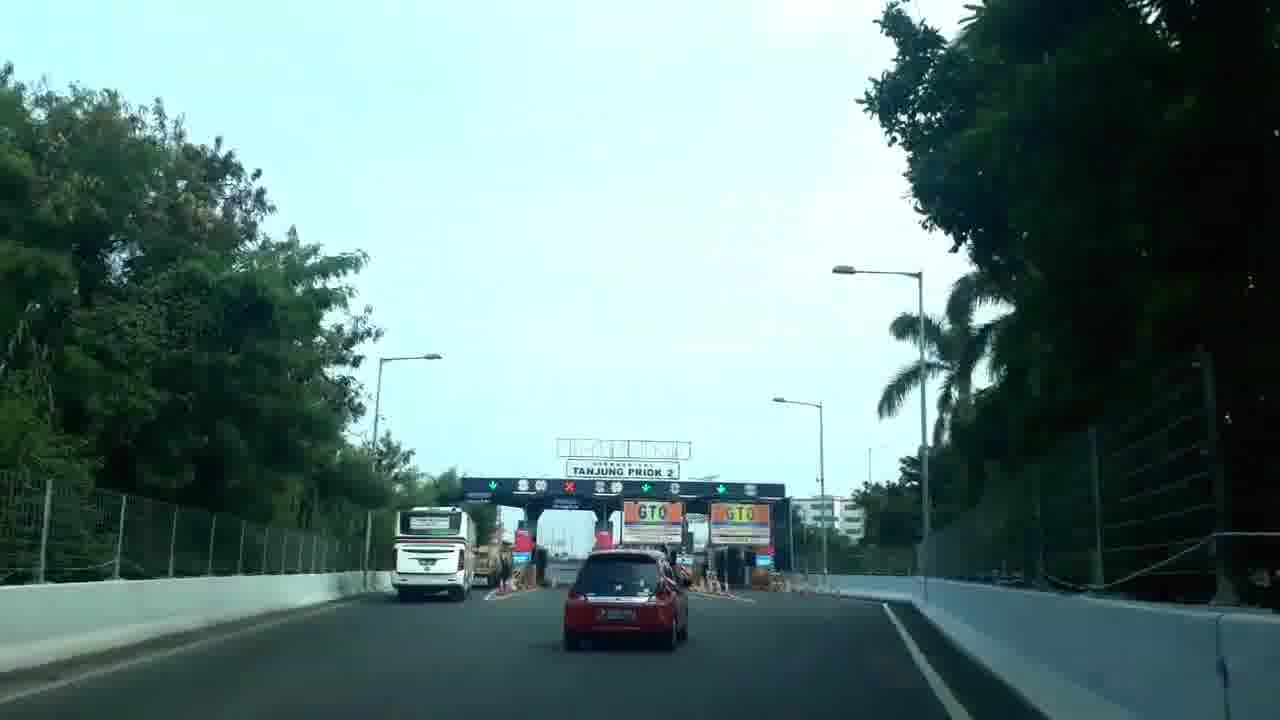plate_positive: (601, 610, 633, 622)
